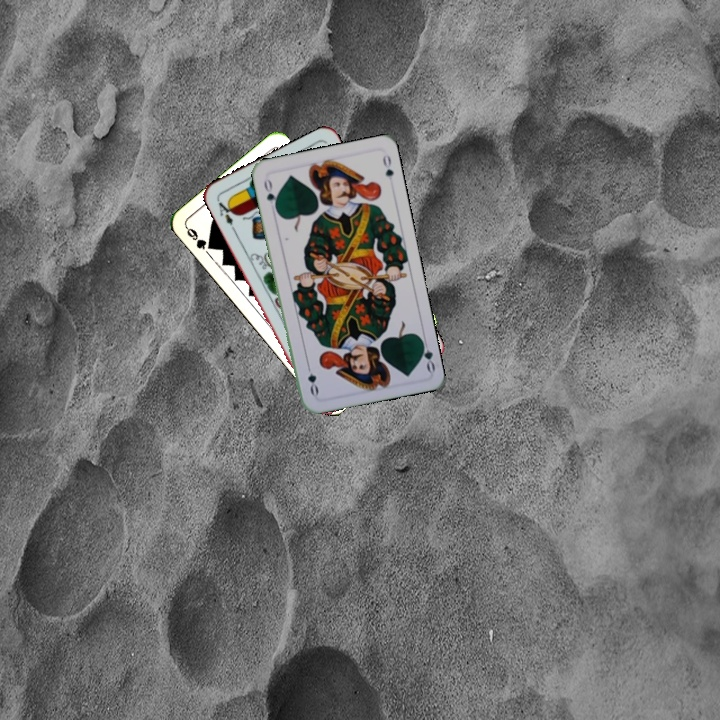EA: (213, 196, 238, 233)
G9: (182, 223, 217, 252)
GO: (416, 334, 438, 374), (260, 175, 280, 213)
